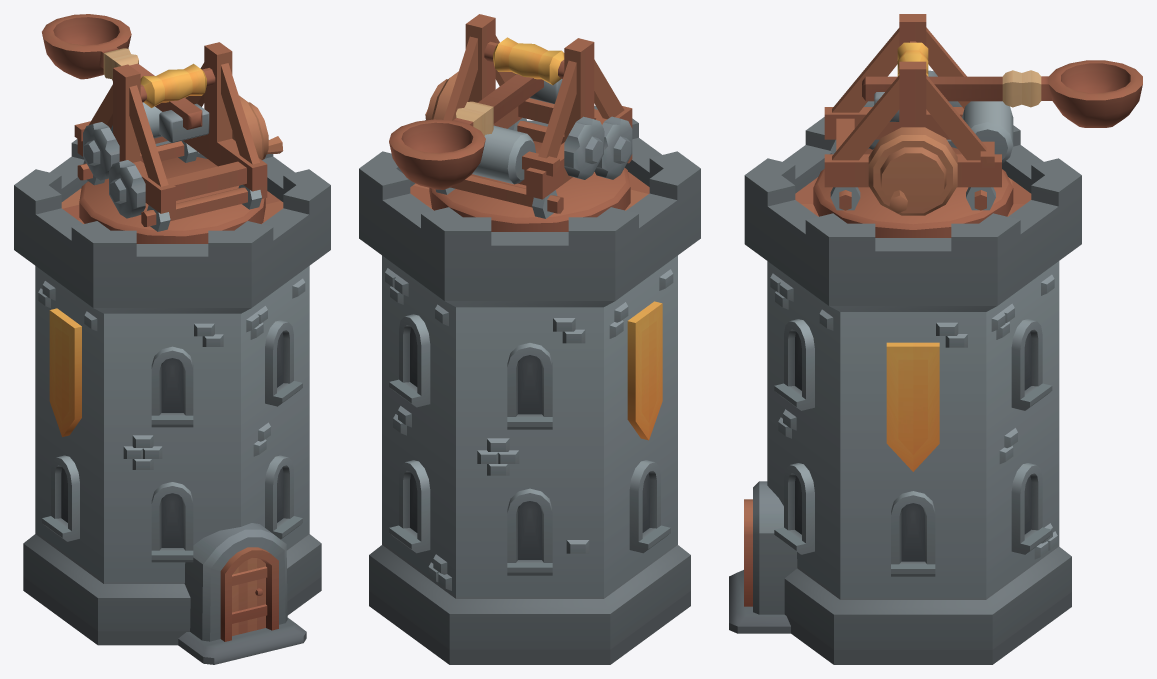
The model's file is building_tower_catapult_yellow.gltf.
3 views of the same model, side by side, from view 1: azimuth 30°, elevation 25°; view 2: azimuth 150°, elevation 25°; view 3: azimuth 270°, elevation 25° (orthographic). The views are drawn at different scales.
Visible parts, largest first — view 1: building_tower_catapult_yellow, catapult_turret_yellow, catapult_arm_yellow; view 2: building_tower_catapult_yellow, catapult_turret_yellow, catapult_arm_yellow; view 3: building_tower_catapult_yellow, catapult_turret_yellow, catapult_arm_yellow.
Part boxes in pixels (box(x1,y1,x2,y2)): building_tower_catapult_yellow: box(14, 139, 330, 664); catapult_turret_yellow: box(74, 42, 283, 243); catapult_arm_yellow: box(42, 14, 209, 142); building_tower_catapult_yellow: box(359, 106, 700, 664); catapult_turret_yellow: box(425, 14, 632, 231); catapult_arm_yellow: box(389, 74, 562, 189); building_tower_catapult_yellow: box(729, 117, 1081, 664); catapult_turret_yellow: box(813, 14, 1013, 237); catapult_arm_yellow: box(862, 60, 1142, 127).
Size of the model in its own units: 0.9298 by 1.96 by 1.3.
Materials: 1 (1 with a texture image).
